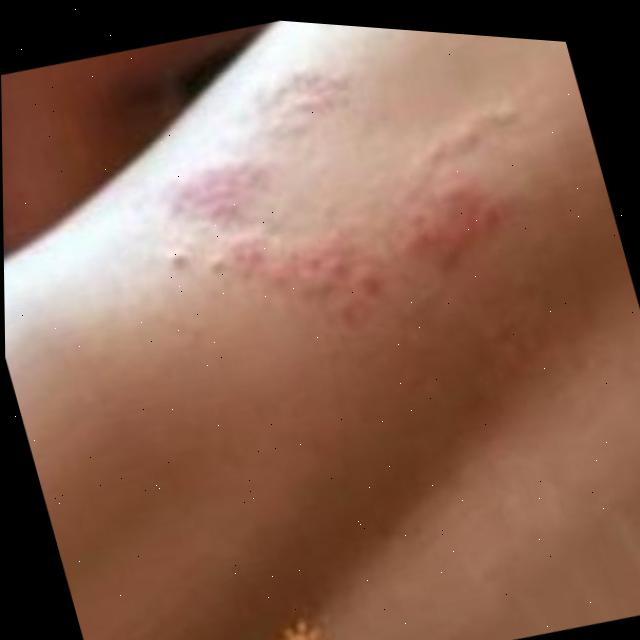Shingles: (157, 37, 518, 331)
